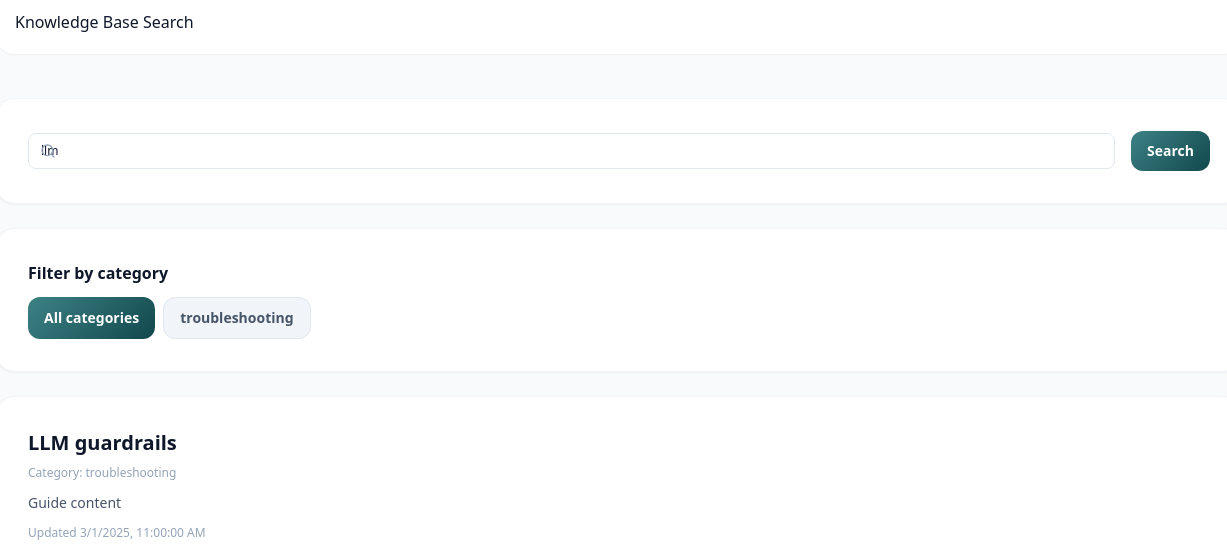
Test case: KnowledgeBaseSearch page › applies category filter and re-fetches results
The image size is (1227, 557).
Expected: the heading "LLM guardrails" is shown, [28,429,177,456]
Click the button "troubleshooting": (237, 318) [163,297,310,339]
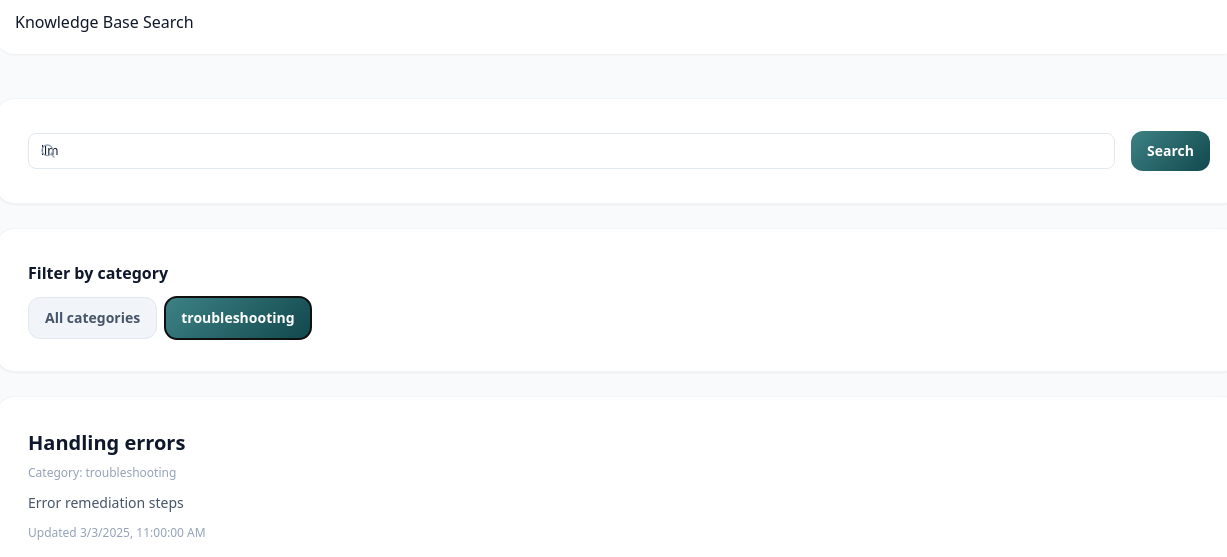
Now the heading "Handling errors" is shown, box [28,429,185,456]
Now the heading "LLM guardrails" is gone
